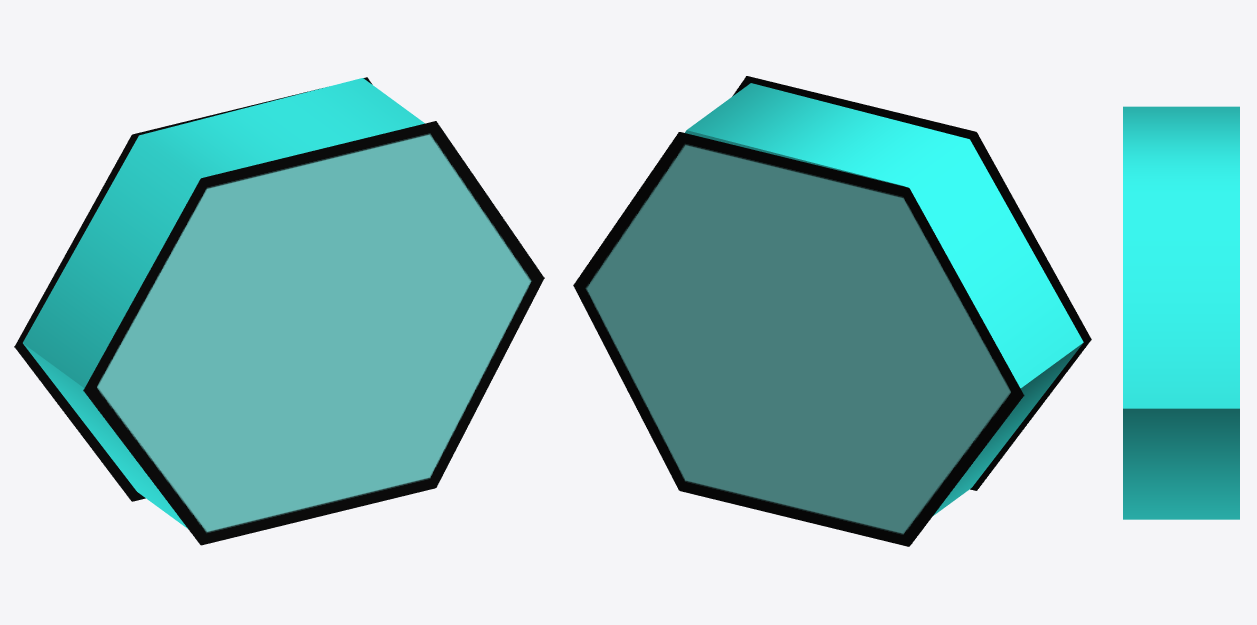
Rendered from HB_Hexagon_Item.fbx.
The picture shows the model from 3 angles, left to right: view 1: azimuth 30°, elevation 25°; view 2: azimuth 150°, elevation 25°; view 3: azimuth 270°, elevation 25°; orthographic projection. The views are drawn at different scales.
Visible parts, largest first — view 1: root (×3); view 2: root (×3); view 3: root.
Part boxes in pixels (x1,y1,x2,y2): root (×3): (14,77,544,545); root (×3): (573,76,1091,546); root: (1123,106,1239,519).
Size of the model in its own units: 0.404 by 0.3746 by 0.1046.
3 materials, 3 textured.
